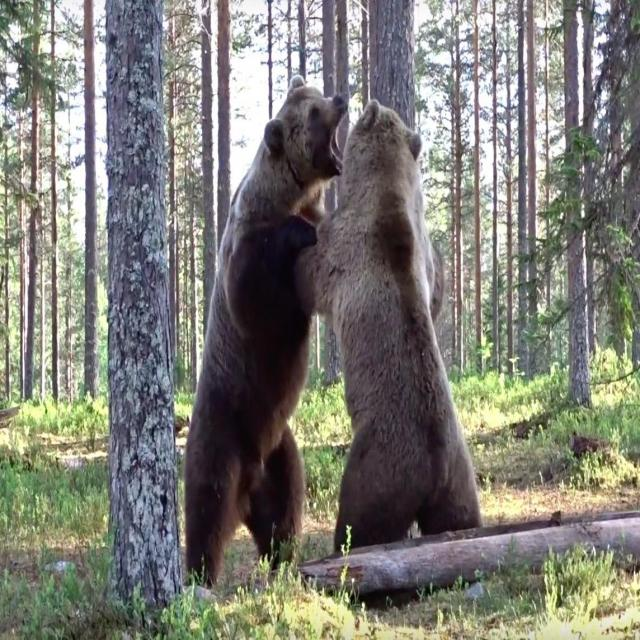Bear: (181, 83, 350, 589), (298, 100, 483, 553)
